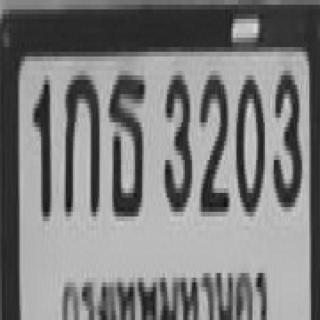A01: (62, 71, 98, 212)
A24: (107, 71, 144, 212)
N00: (235, 71, 263, 212)
N01: (32, 75, 50, 217)
N02: (198, 71, 227, 212)
N03: (162, 70, 190, 207), (272, 66, 300, 202)
